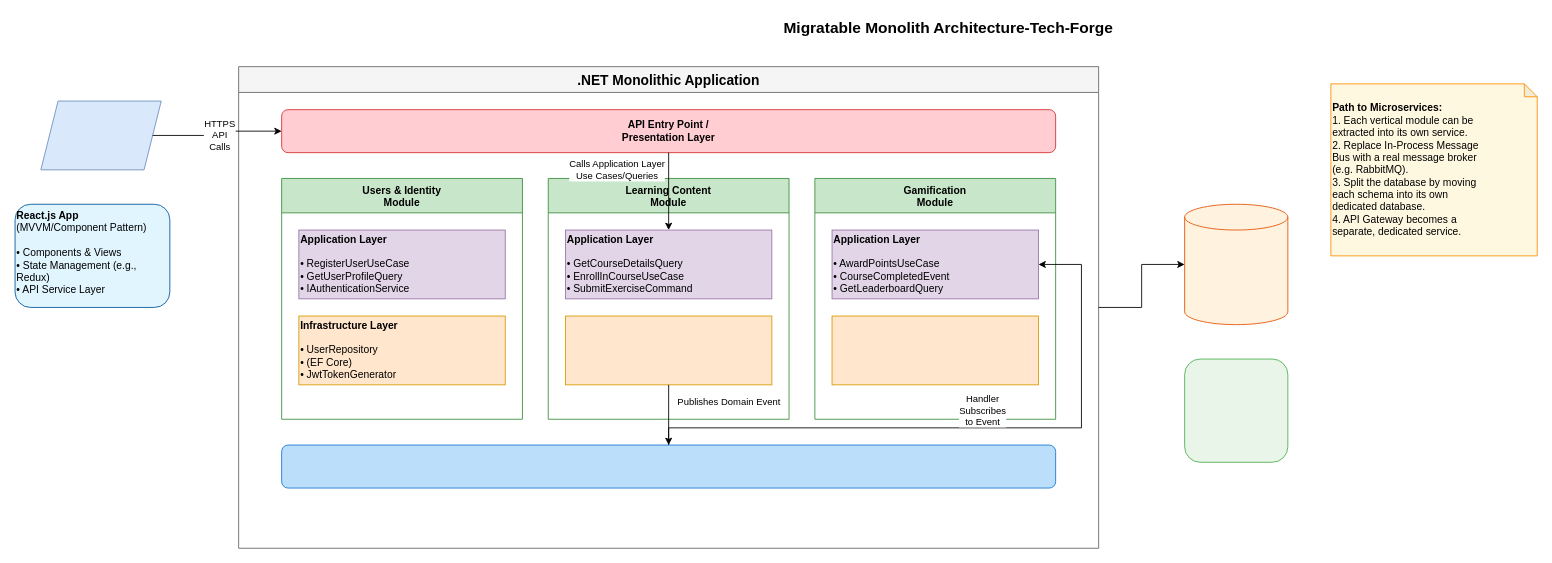
The diagram is 1552 pixels wide and 563 high, and some of its shapes have lost their labels. The shapes that lost their labels are listed below. From the top down, each one's centre as x and y in pixels, then its label:
[100,135]: User's Browser
[1236,264]: Single SQL Server Database
[668,350]: Infrastructure Layer • CourseRepository • (EF Core) • ExerciseValidator
[934,350]: Infrastructure Layer • PointsRepository • (EF Core) • LeaderboardCache (Redis)
[1236,410]: [Schema: users] • Accounts • Profiles [Schema: learning] • Courses • Lessons
[668,466]: Shared Kernel (Common Libraries Cross-Cutting)
